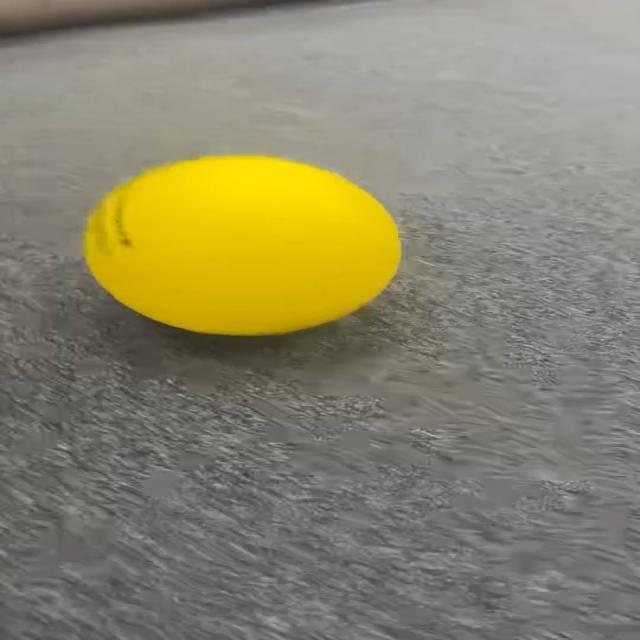Fuels: (85, 157, 398, 332)
